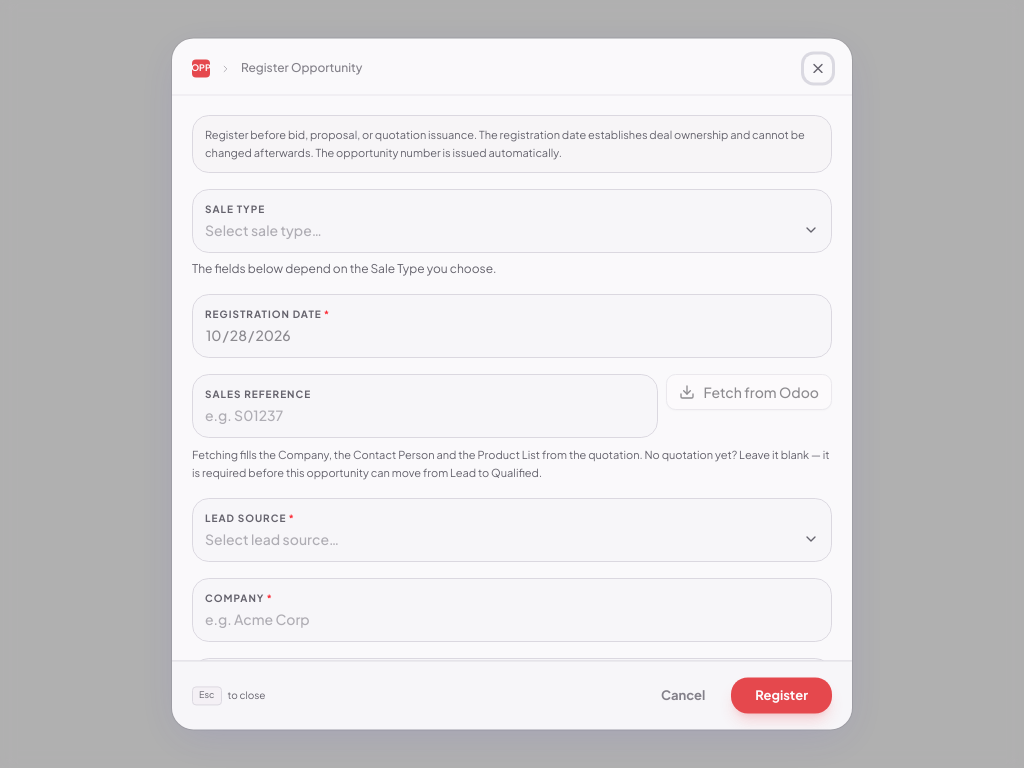
OpportunityFormModal — putting back a Company the fetch displaced › withdraws the offer once the Company is typed over
This screenshot has width=1024, height=768.
Step 1. Type "Makati LGU" into the field with placeholder "e.g. Acme Corp" → [512, 620], box [205,610,819,630]
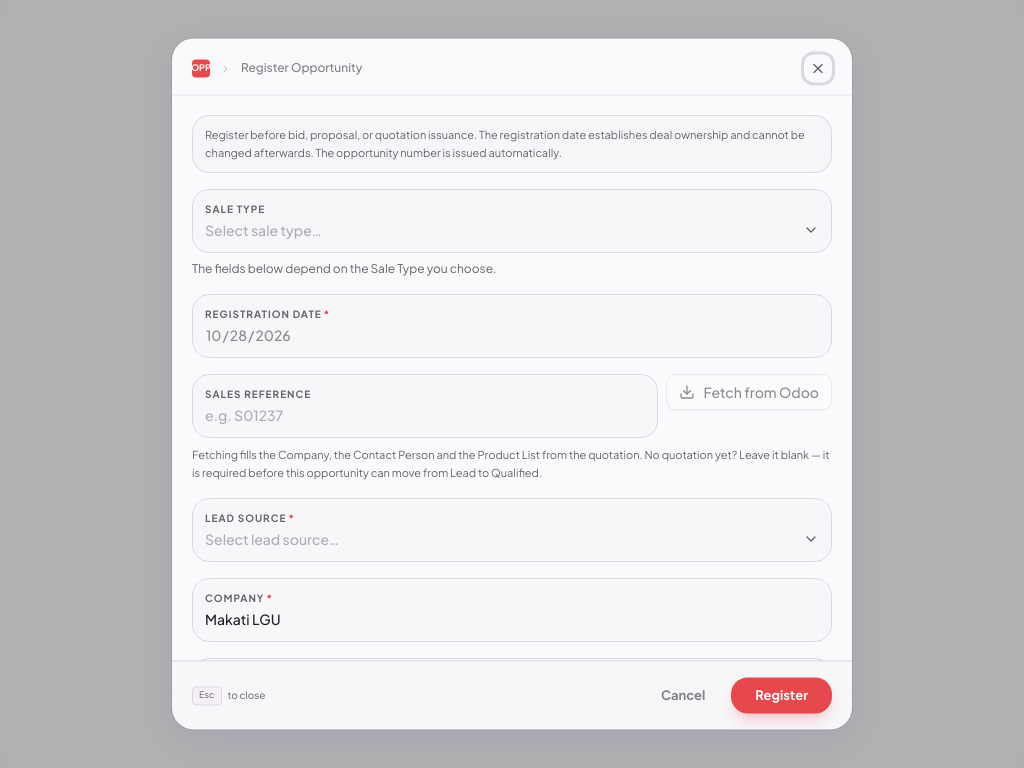
Step 2. Type "S08234" into the field with placeholder "e.g. S01237" → [425, 416], box [205,406,646,426]
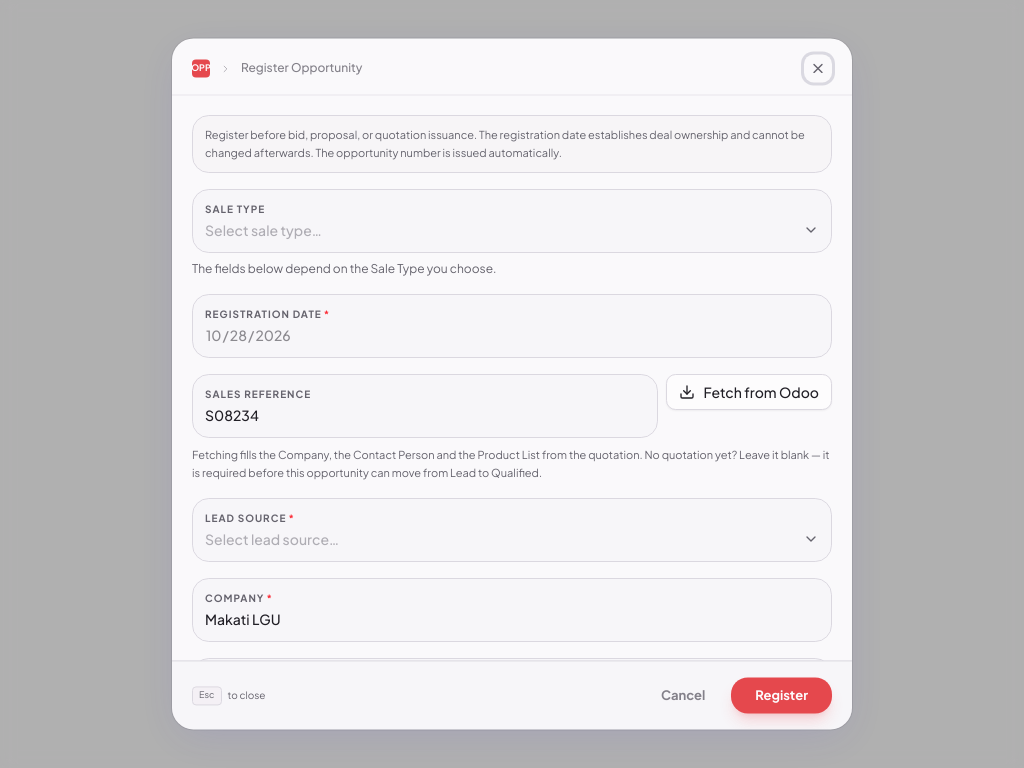
Step 3. Click the button "Fetch from Odoo" → [749, 392], box [666,374,832,410]
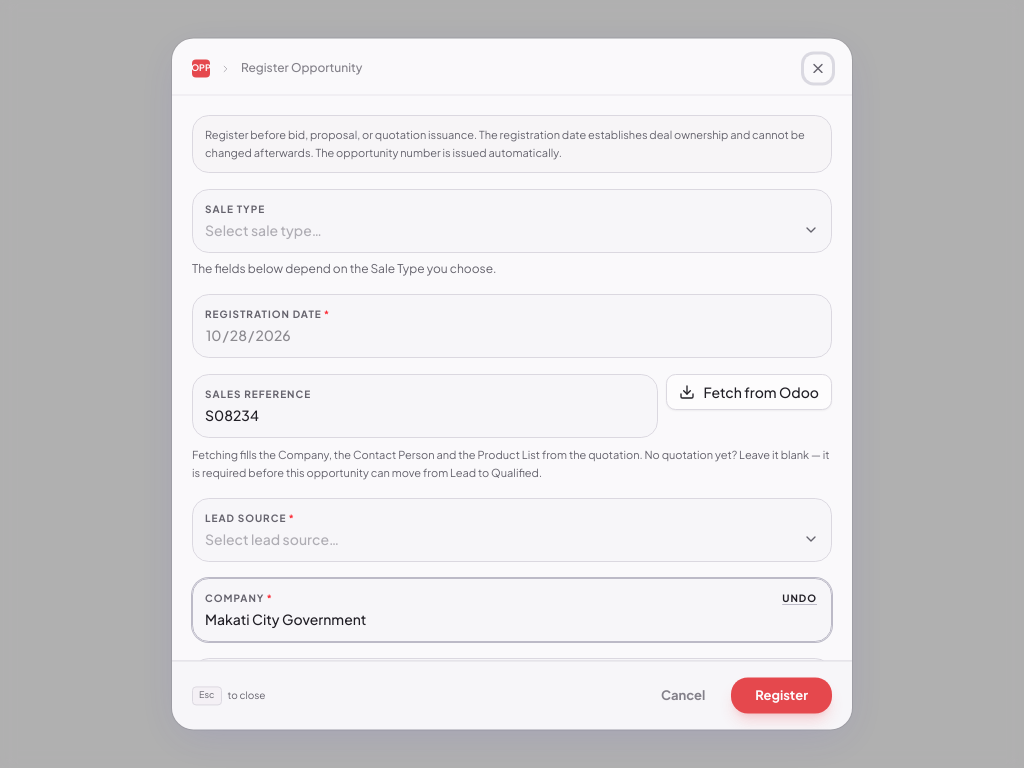
Now the 2nd field with placeholder "e.g. Acme Corp" holds "Makati City Government"
Step 4. Replace the text in the 2nd field with placeholder "e.g. Acme Corp" with "Makati City Govt" → [512, 620], box [205,610,819,630]
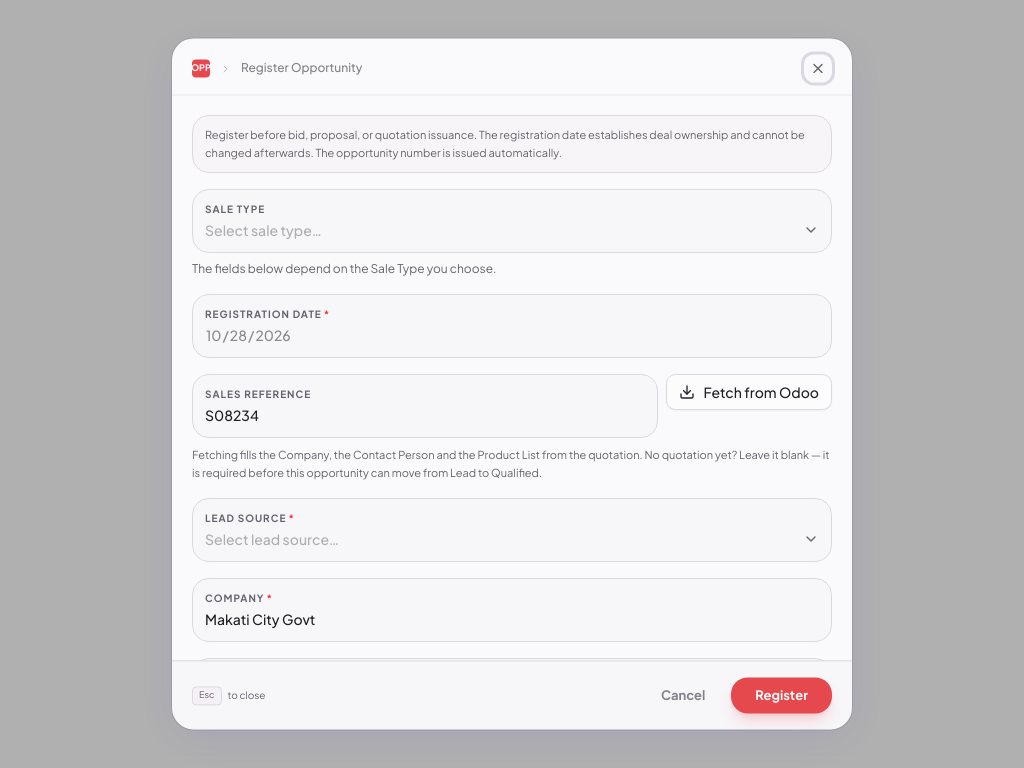
Now the button "Undo" is gone
